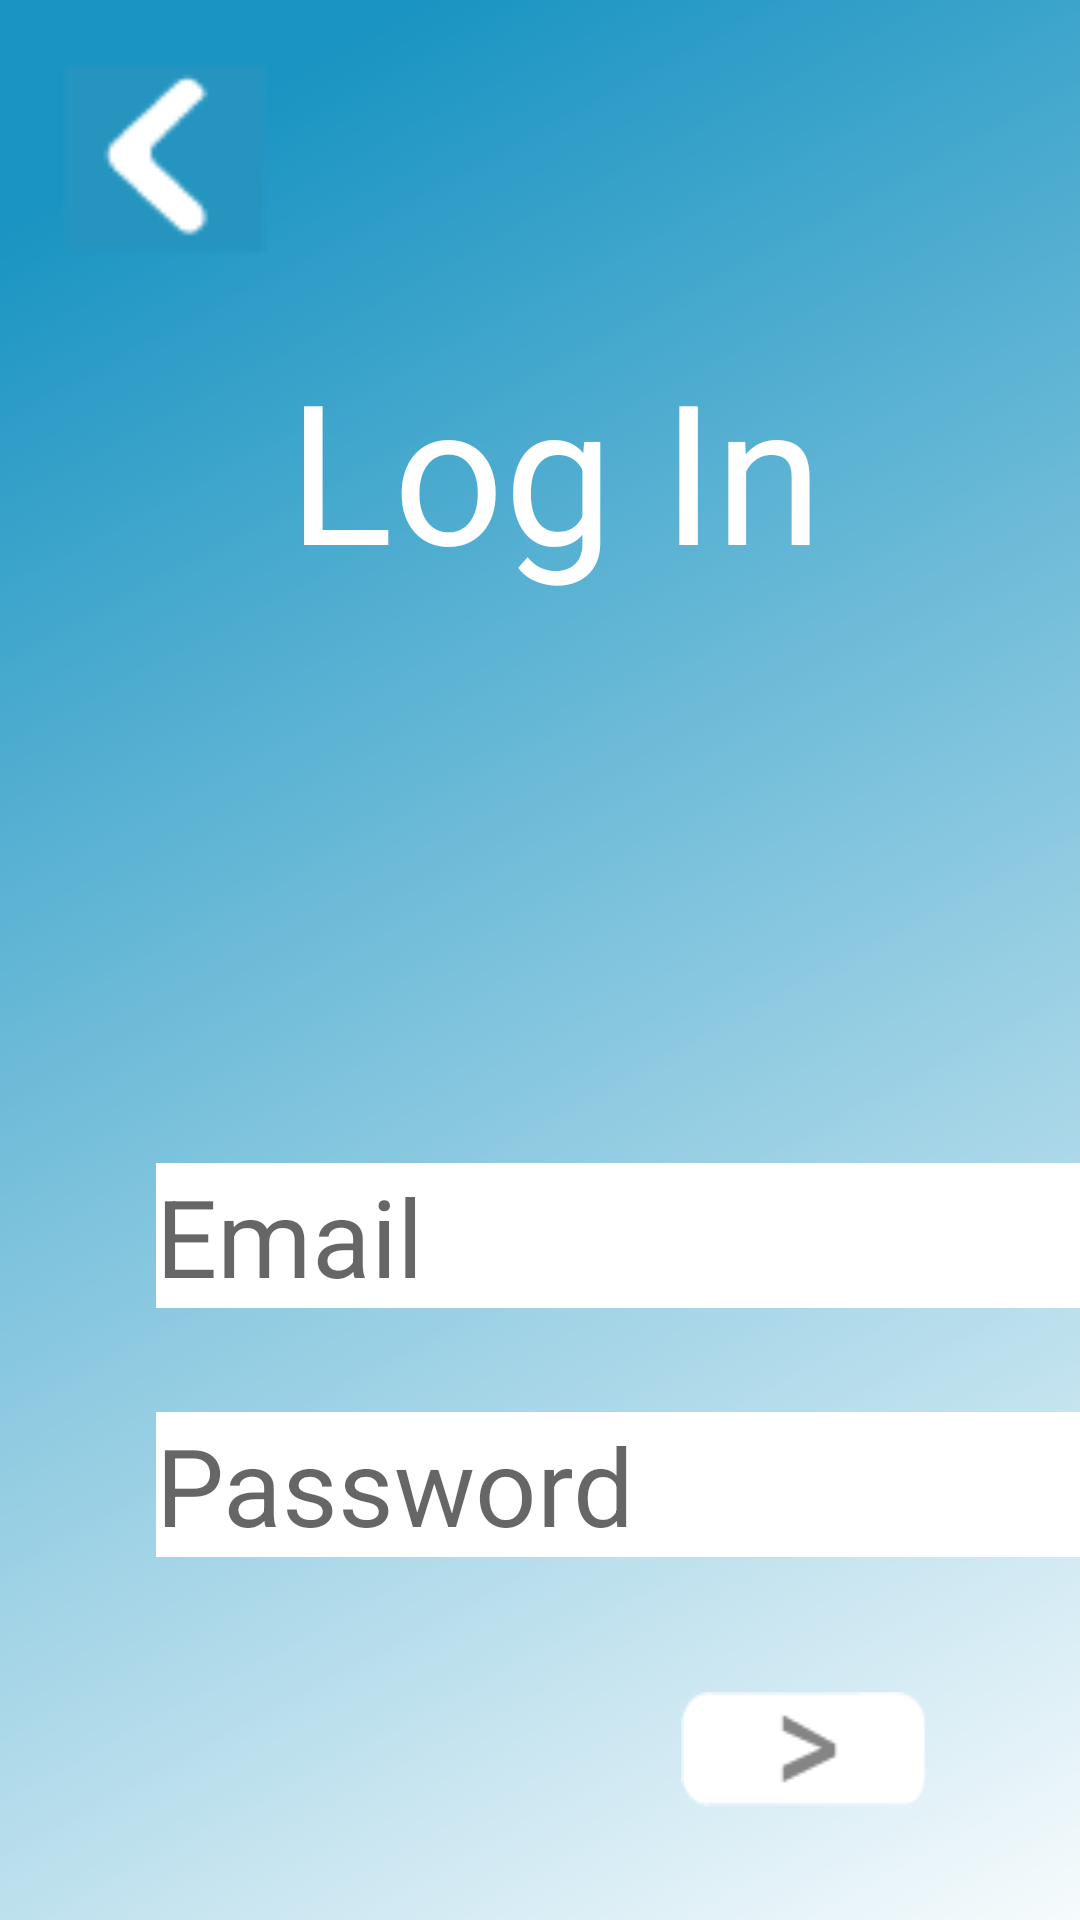

Named icons in this screenshot (1080px×1920px) and their centers, (x=x, y=y):
backarrow: (x=156, y=156)
next: (x=804, y=1748)
